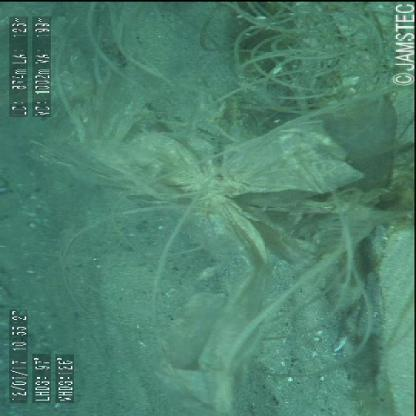Rác: (113, 5, 345, 363)
